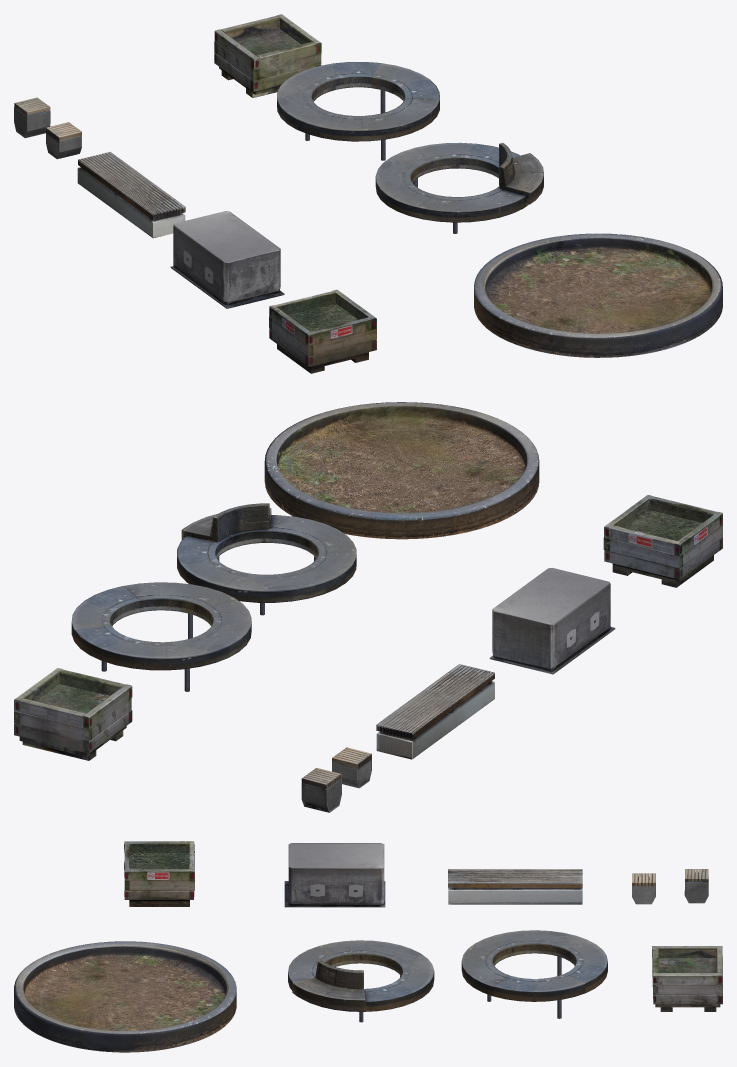
The model's file is ldn_street_objects.glb.
The picture shows the model from 3 angles, top to bottom: view 1: azimuth 30°, elevation 25°; view 2: azimuth 150°, elevation 25°; view 3: azimuth 270°, elevation 25°; orthographic projection. The views are drawn at different scales.
Visible parts, largest first — view 1: hvmPlanter2_4, hvmSeating1_2, hvmPlanter4_7, hvmBlock_6, hvmPlanter1_3, hvmPlanter3_5, hvmSeating3_0, hvmSeating2_1; view 2: hvmPlanter2_4, hvmSeating1_2, hvmPlanter4_7, hvmBlock_6, hvmPlanter3_5, hvmPlanter1_3, hvmSeating3_0, hvmSeating2_1; view 3: hvmPlanter2_4, hvmSeating1_2, hvmPlanter4_7, hvmBlock_6, hvmSeating3_0, hvmPlanter1_3, hvmPlanter3_5, hvmSeating2_1.
Boxes of the visible parts, x1,y1,x2,y2 form: hvmPlanter2_4: (474,233,722,357); hvmSeating1_2: (375,142,543,233); hvmPlanter4_7: (277,62,439,160); hvmBlock_6: (170,211,284,308); hvmPlanter1_3: (269,289,376,373); hvmPlanter3_5: (214,14,321,97); hvmSeating3_0: (77,151,185,238); hvmSeating2_1: (14,97,81,159); hvmPlanter2_4: (264,402,539,539); hvmSeating1_2: (177,503,356,615); hvmPlanter4_7: (71,582,251,691); hvmBlock_6: (489,568,615,674); hvmPlanter3_5: (14,668,132,760); hvmPlanter1_3: (603,495,722,587); hvmSeating3_0: (376,664,494,759); hvmSeating2_1: (301,747,371,812); hvmPlanter2_4: (14,941,236,1052); hvmSeating1_2: (288,940,434,1022); hvmPlanter4_7: (461,930,607,1018); hvmBlock_6: (284,843,385,907); hvmSeating3_0: (448,869,582,904); hvmPlanter1_3: (124,841,194,906); hvmPlanter3_5: (652,946,722,1011); hvmSeating2_1: (632,869,708,904).
Bounding box in the file's own units: 18.77 × 2.54 × 32.33.
Materials: 8 (8 with a texture image).
